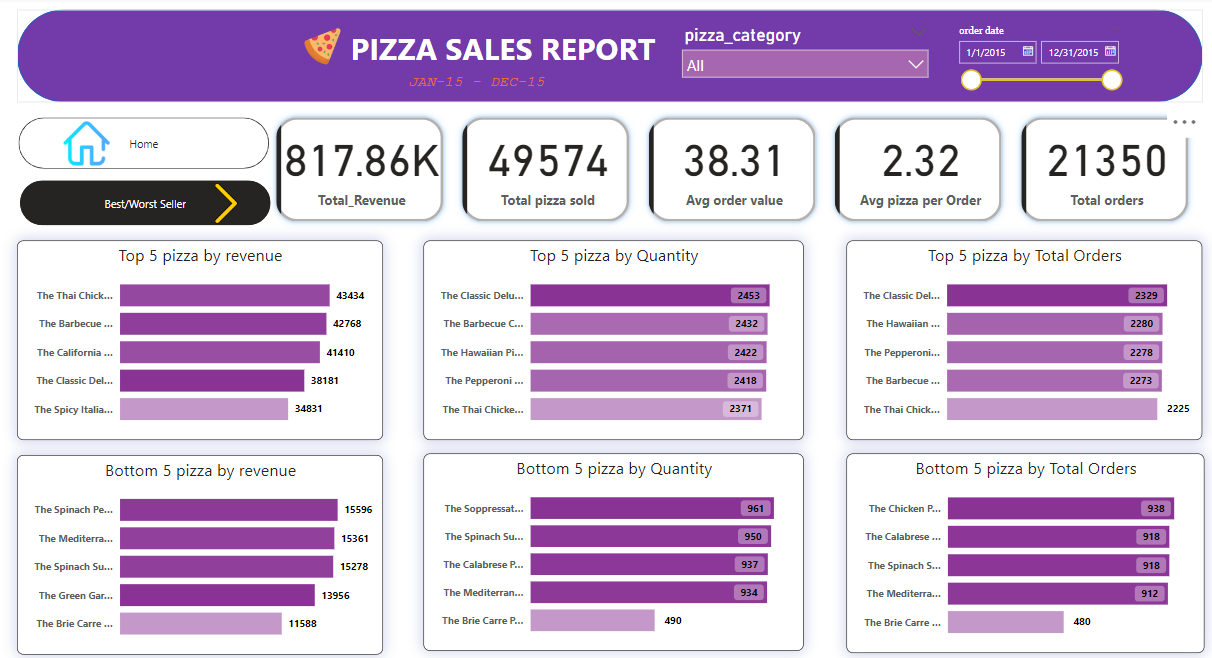

What the dashboard file says about the page in this screenshot:
{"tool":"powerbi","page":{"name":"Best/Worst Seller","canvas":[1500,820],"ordinal":1},"visuals":[{"type":"cardVisual","fields":{"Data":["pizza_sales.Total_Revenue","pizza_sales.Total pizza sold","pizza_sales.Avg order value","pizza_sales.Avg pizza per Order","pizza_sales.Total orders"]},"box":[325,132.5,1155,160],"z":0},{"type":"shape","box":[22.5,17.5,1457.5,113.8],"z":1000},{"type":"textbox","box":[422.3,33.2,394.6,70.1],"z":2000},{"type":"image","box":[145.7,33.2,503.4,57.2],"z":3000},{"type":"textbox","box":[422.3,90.4,328.3,40.6],"z":4000},{"type":"slicer","fields":{"Values":["pizza_sales.pizza_category"]},"box":[829.9,29.5,322.7,77.5],"z":5000},{"type":"slicer","fields":{"Values":["pizza_sales.order_date"]},"box":[1167.5,30,222.5,90],"z":6000},{"type":"barChart","title":"Top 5 pizza by revenue","fields":{"Category":["pizza_sales.pizza_name"],"Y":["pizza_sales.Total_Revenue"]},"box":[22.5,300,450,245],"z":7000},{"type":"barChart","title":"Bottom 5 pizza by revenue","fields":{"Category":["pizza_sales.pizza_name"],"Y":["pizza_sales.Total_Revenue"]},"box":[22.5,565,450,245],"z":8000},{"type":"barChart","title":"Top 5 pizza by Quantity","fields":{"Category":["pizza_sales.pizza_name"],"Y":["pizza_sales.Total pizza sold"]},"box":[522.5,300,467.5,245],"z":9000},{"type":"barChart","title":"Bottom 5 pizza by Quantity","fields":{"Category":["pizza_sales.pizza_name"],"Y":["pizza_sales.Total pizza sold"]},"box":[522.5,562.5,467.5,242.5],"z":10000},{"type":"barChart","title":"Top 5 pizza by Total Orders","fields":{"Category":["pizza_sales.pizza_name"],"Y":["pizza_sales.Total orders"]},"box":[1042.5,300,437.5,245],"z":11000},{"type":"barChart","title":"Bottom 5 pizza by Total Orders","fields":{"Category":["pizza_sales.pizza_name"],"Y":["pizza_sales.Total orders"]},"box":[1042.5,562.5,440,245],"z":12000},{"type":"pageNavigator","box":[23.3,150,308.3,63.3],"z":12001},{"type":"pageNavigator","box":[25,226.7,308.3,55],"z":12002},{"type":"image","box":[70,148.3,75,66.7],"z":12003},{"type":"image","box":[248.3,221.7,60,66.7],"z":12004}]}

Visuals, with their boxes in screenshot pixels (x1, y1, x2, y2), scaled from the page's 1500x820 canvas onto the 1212x658 screenshot:
cardVisual - pizza_sales.Total_Revenue x pizza_sales.Total pizza sold: BBox(263, 106, 1196, 235)
shape: BBox(18, 14, 1196, 105)
textbox: BBox(341, 27, 660, 83)
image: BBox(118, 27, 524, 73)
textbox: BBox(341, 73, 606, 105)
slicer - pizza_sales.pizza_category: BBox(671, 24, 931, 86)
slicer - pizza_sales.order_date: BBox(943, 24, 1123, 96)
"Top 5 pizza by revenue" barChart: BBox(18, 241, 382, 437)
"Bottom 5 pizza by revenue" barChart: BBox(18, 453, 382, 650)
"Top 5 pizza by Quantity" barChart: BBox(422, 241, 800, 437)
"Bottom 5 pizza by Quantity" barChart: BBox(422, 451, 800, 646)
"Top 5 pizza by Total Orders" barChart: BBox(842, 241, 1196, 437)
"Bottom 5 pizza by Total Orders" barChart: BBox(842, 451, 1198, 648)
pageNavigator: BBox(19, 120, 268, 171)
pageNavigator: BBox(20, 182, 269, 226)
image: BBox(57, 119, 117, 173)
image: BBox(201, 178, 249, 231)
